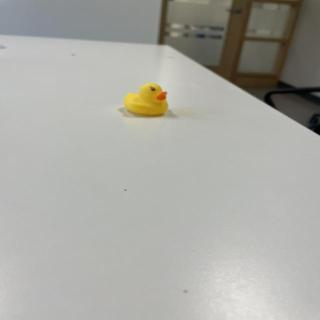duck_regular: (123, 83, 171, 118)
